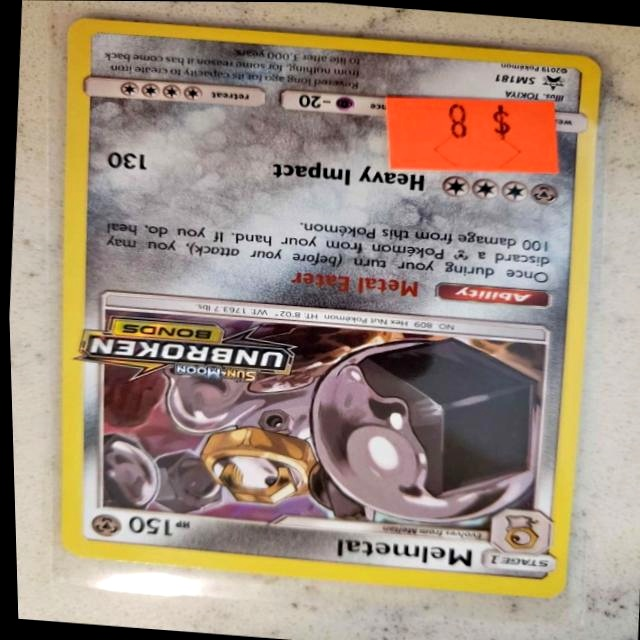card: (54, 17, 604, 599)
